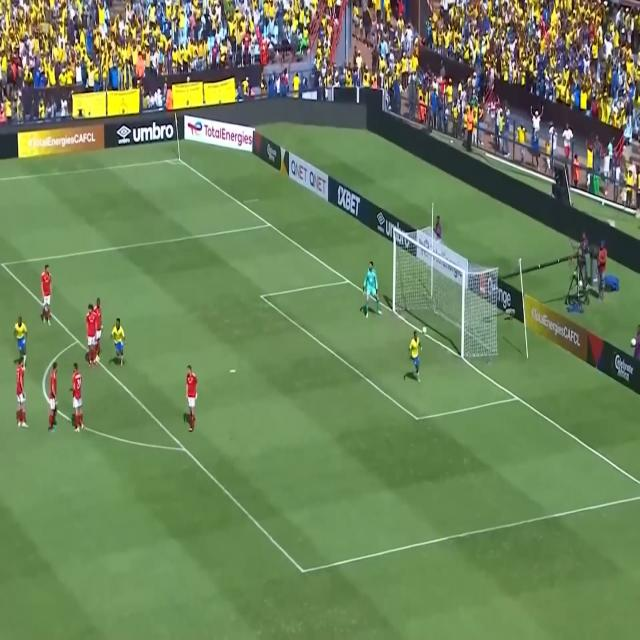Ball: (420, 324, 428, 339)
Keeper: (360, 258, 383, 319)
Player: (13, 358, 35, 430), (69, 362, 88, 443), (183, 360, 201, 430), (110, 316, 130, 370), (82, 301, 96, 372), (14, 314, 31, 369), (41, 266, 57, 322), (48, 360, 60, 430), (406, 331, 422, 383), (94, 295, 102, 364)
